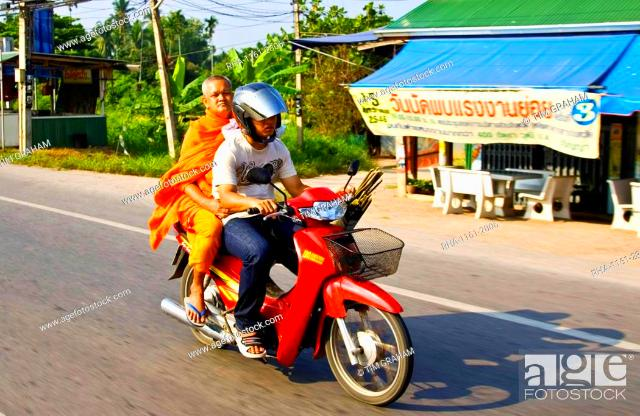helm: (234, 84, 289, 144)
motor: (163, 159, 416, 408)
non-helm: (204, 76, 235, 116)
